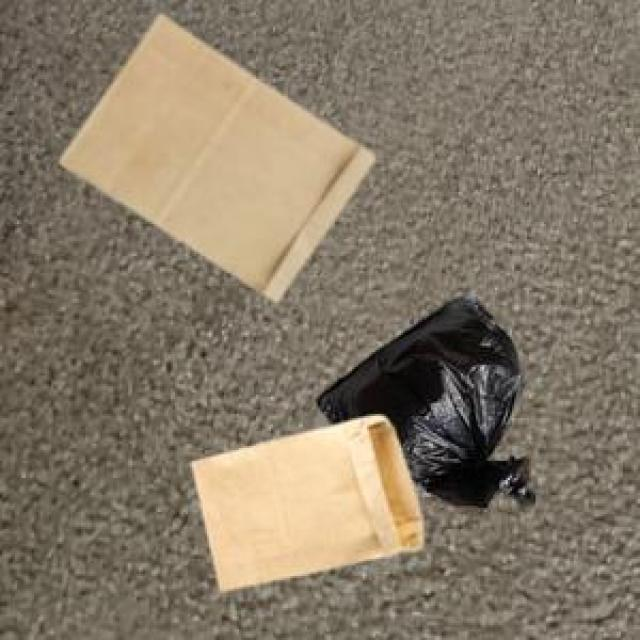miscellaneous trash: (314, 288, 533, 512)
paper: (58, 11, 369, 297), (188, 412, 418, 587)
